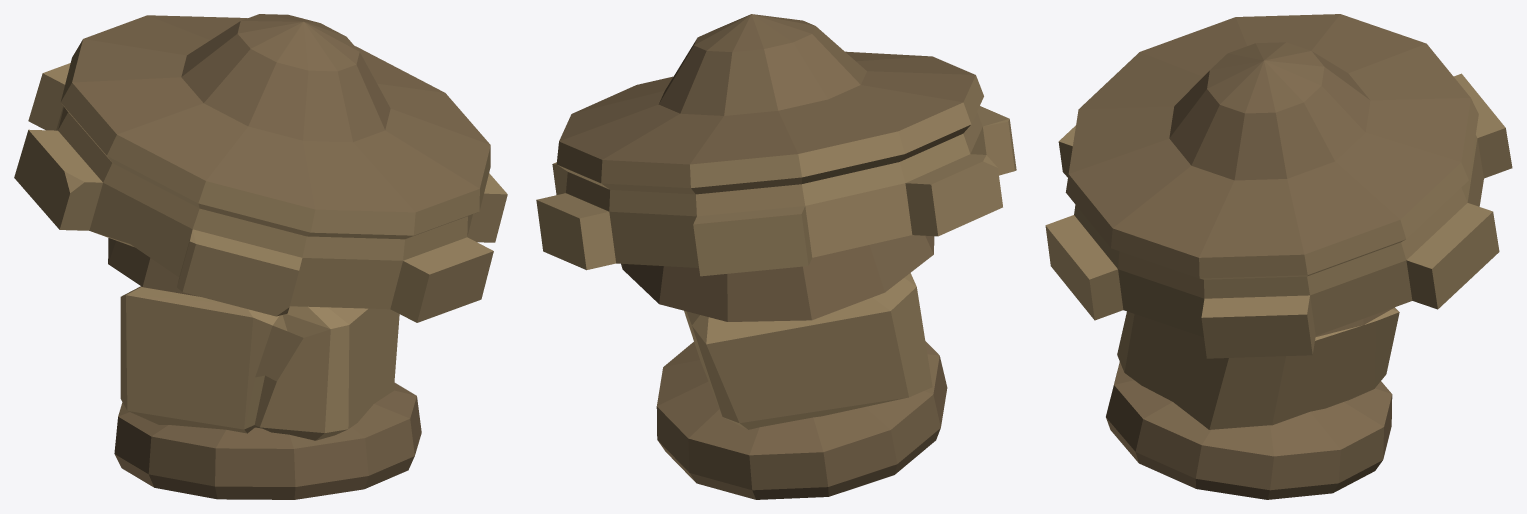
Rendered from leg_r_upper.gltf.
3 renders of one model, left to right at view 1: azimuth 30°, elevation 25°; view 2: azimuth 150°, elevation 25°; view 3: azimuth 270°, elevation 25°, orthographic. The views are drawn at different scales.
Visible parts, largest first — view 1: leg_r_upper; view 2: leg_r_upper; view 3: leg_r_upper.
Boxes of the visible parts, x1,y1,x2,y2 form: leg_r_upper: (14, 14, 507, 499); leg_r_upper: (536, 14, 1016, 499); leg_r_upper: (1045, 14, 1512, 499).
Size of the model in its own units: 2.89 by 2.79 by 2.87.
1 material, 1 textured.
